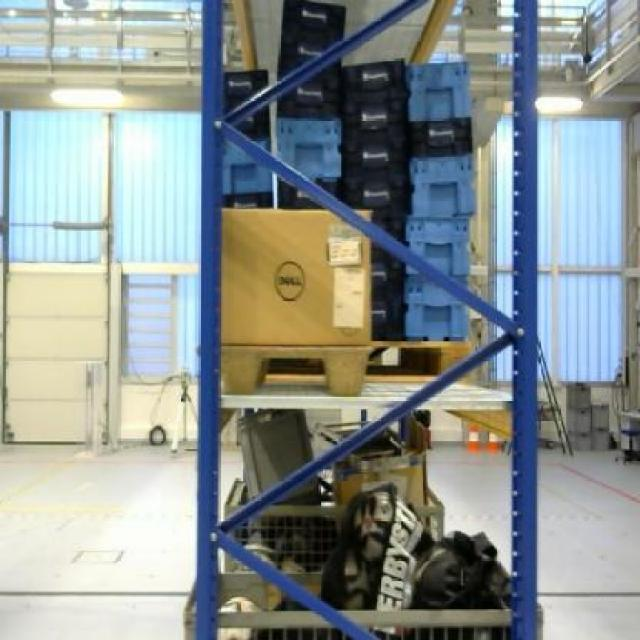box: (219, 206, 373, 348)
